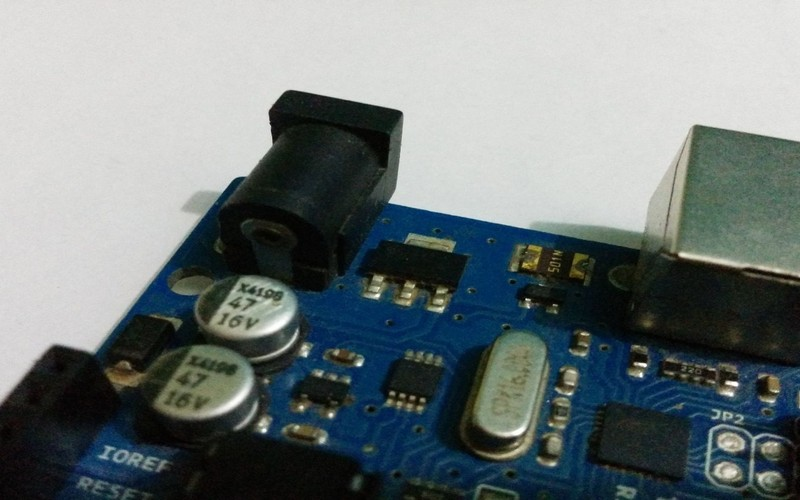Regulator: (81, 78, 585, 469)
